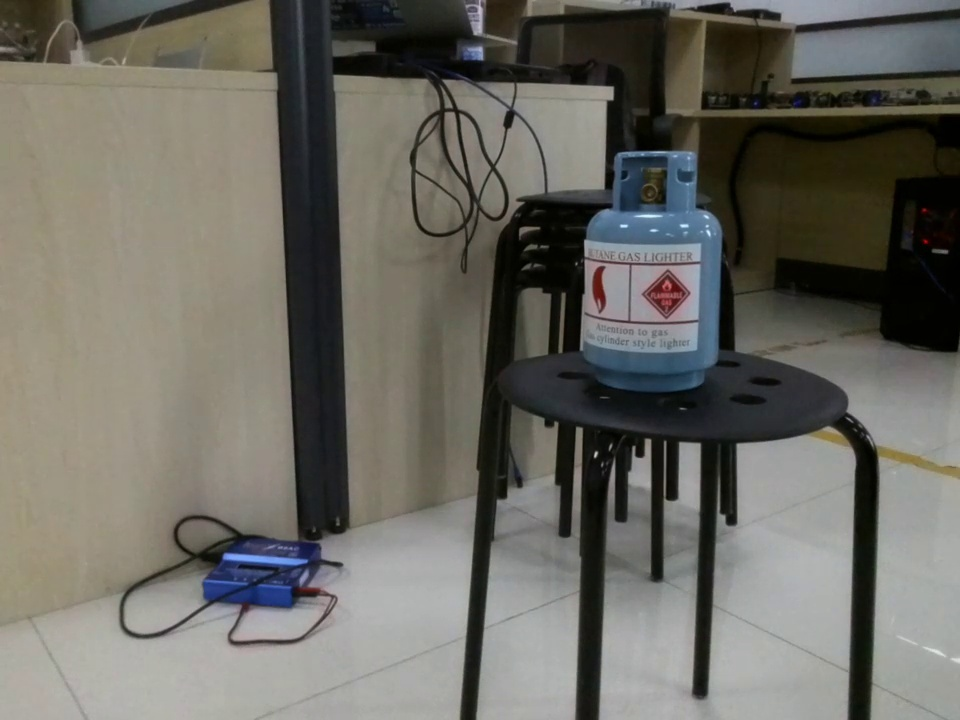gas tank: (579, 143, 731, 397)
